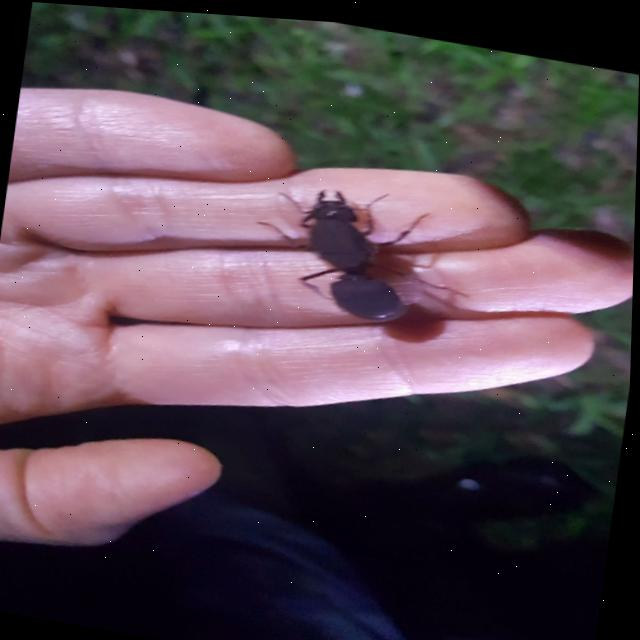Alive-Female-Dealate: (245, 167, 482, 331)
